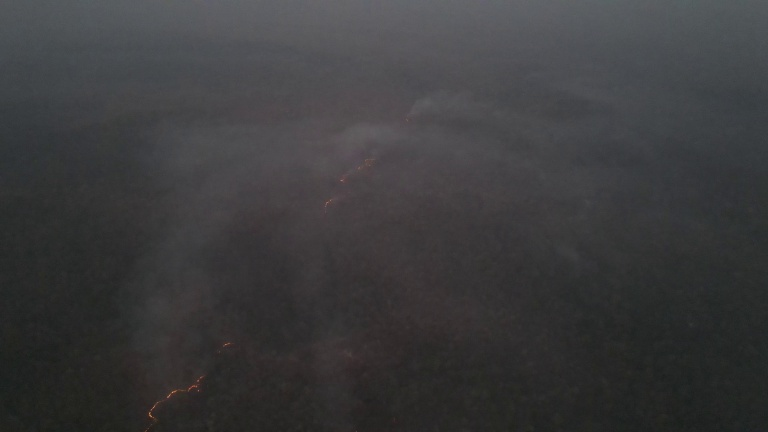fire: (148, 371, 208, 429), (338, 154, 378, 184), (217, 337, 238, 354), (321, 195, 338, 213)
smoke: (134, 137, 270, 356), (293, 120, 437, 166)
